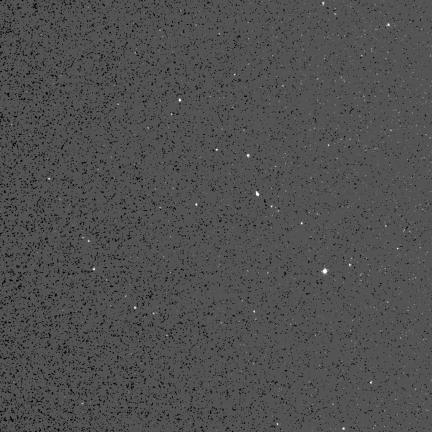blob: (322, 268, 327, 274), (247, 154, 251, 158), (92, 268, 96, 271), (195, 203, 198, 207), (179, 99, 182, 103), (256, 192, 259, 196), (387, 24, 390, 27), (349, 264, 352, 267), (88, 240, 91, 243), (216, 149, 219, 152), (135, 306, 137, 310), (301, 222, 303, 225)
